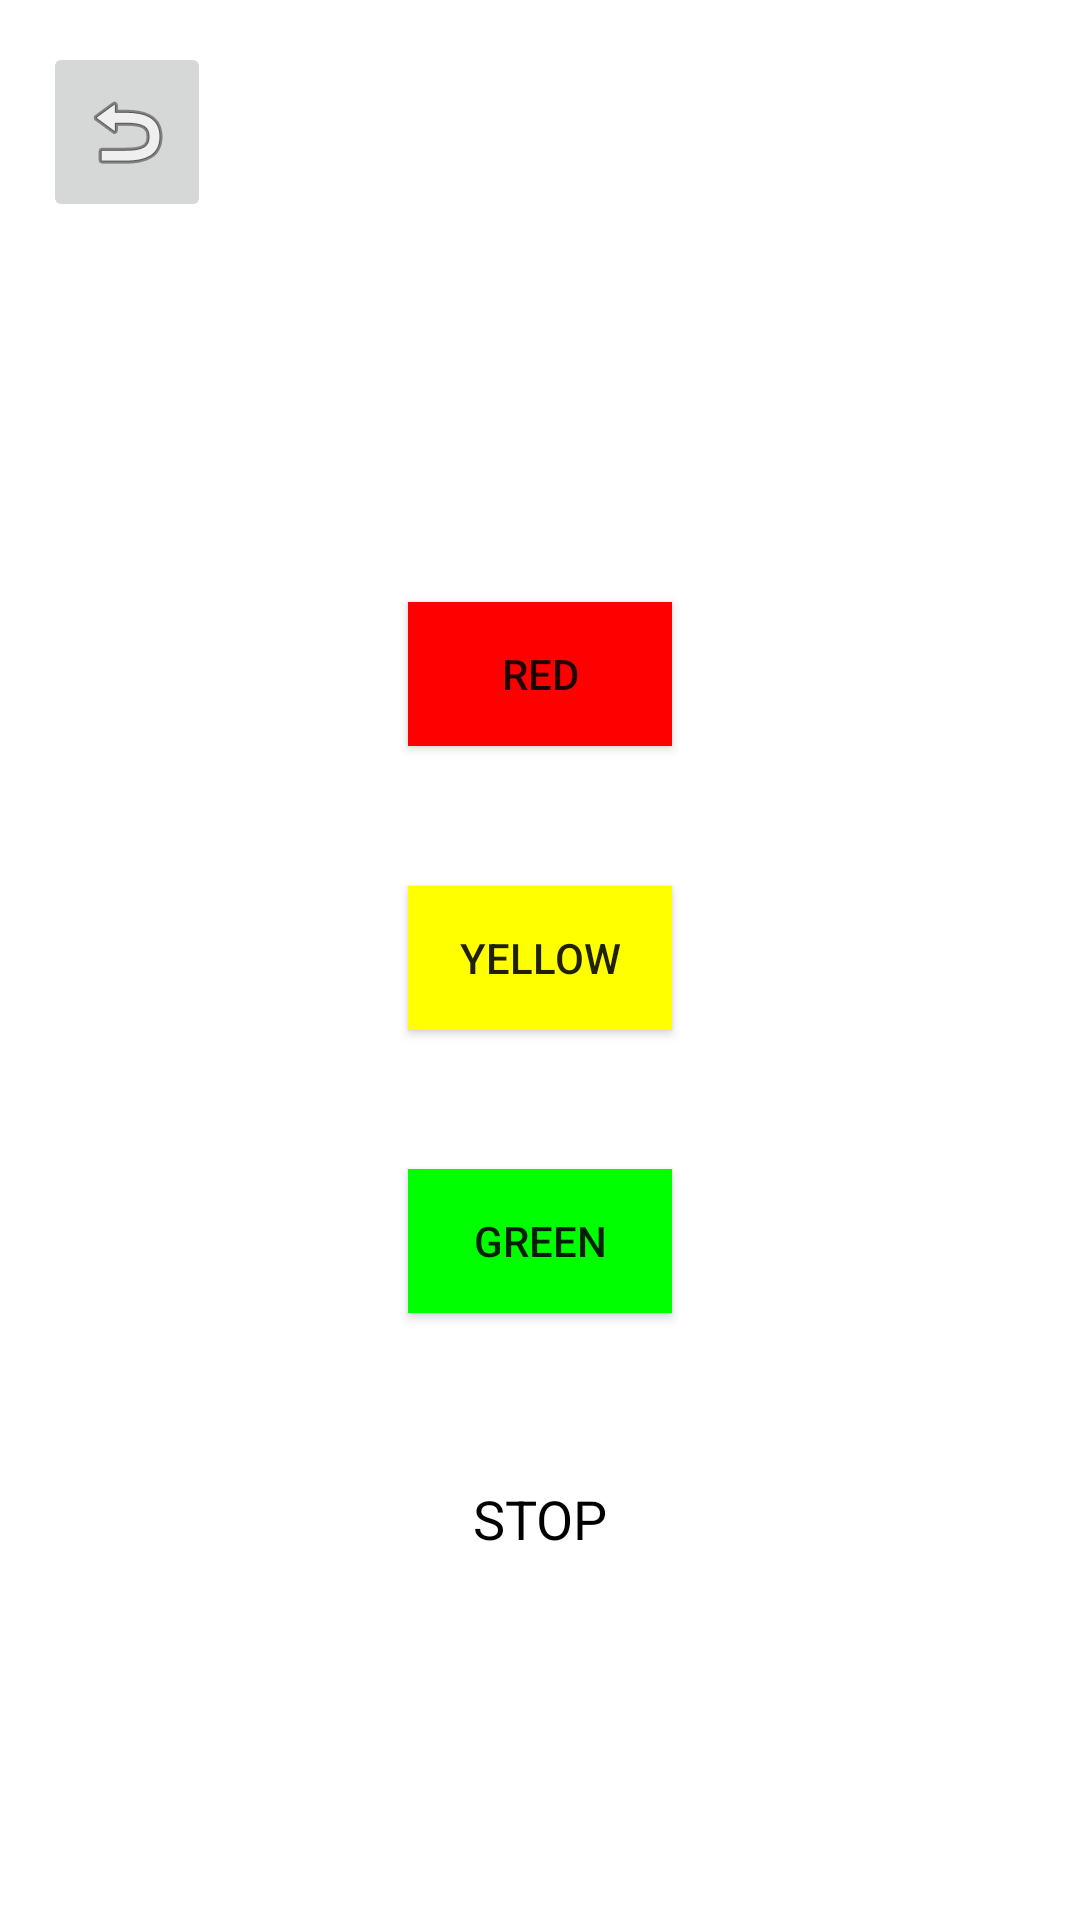

Screen size 1080w x 1920h. Icon name, then its center in pixels as (x,y):
Go Back: (127,132)
